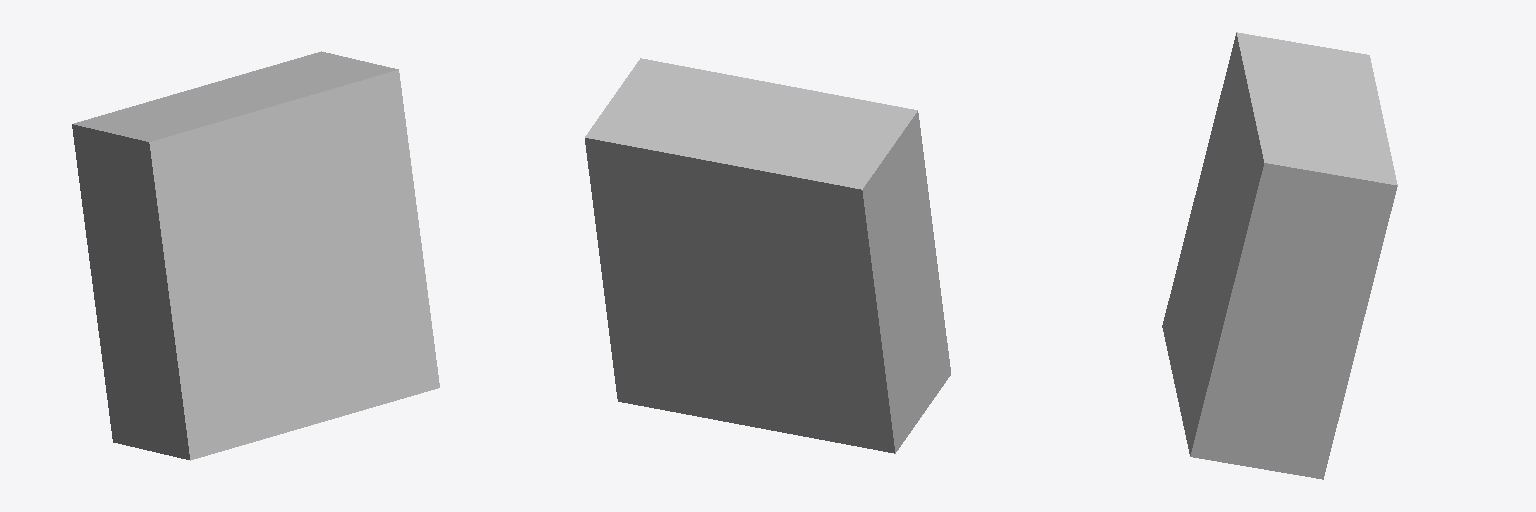
The model's file is cricket_reverselight_R.obj.
The picture shows the model from 3 angles: view 1: azimuth 30°, elevation 25°; view 2: azimuth 150°, elevation 25°; view 3: azimuth 270°, elevation 25°; orthographic projection.
Parts seen in each view (by area): view 1: Reverselight_R; view 2: Reverselight_R; view 3: Reverselight_R.
Part boxes in pixels (x1,y1,x2,y2): Reverselight_R: (72, 51, 439, 460); Reverselight_R: (585, 58, 950, 453); Reverselight_R: (1162, 32, 1397, 479).
Size of the model in its own units: 0.1184 by 0.1308 by 0.0867.